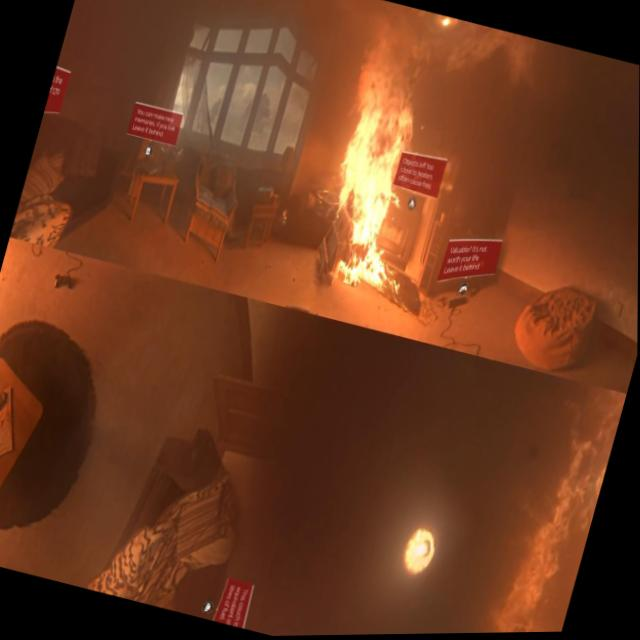fire: (307, 60, 459, 305)
